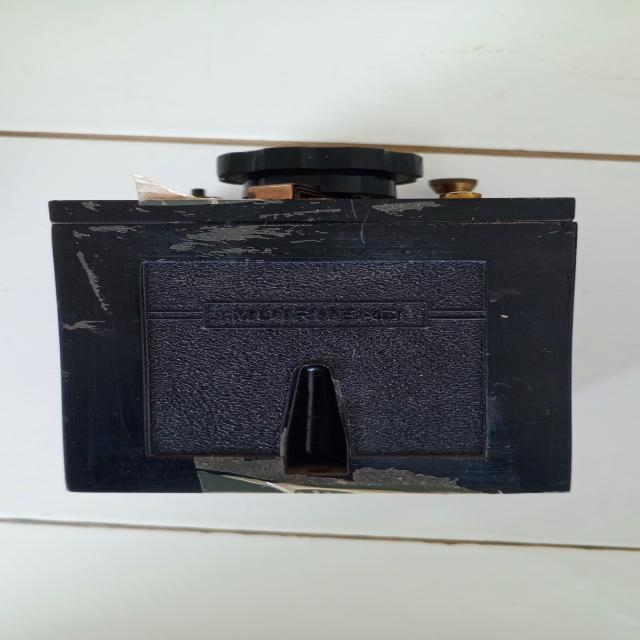Set of Resistances: (28, 135, 614, 506)
